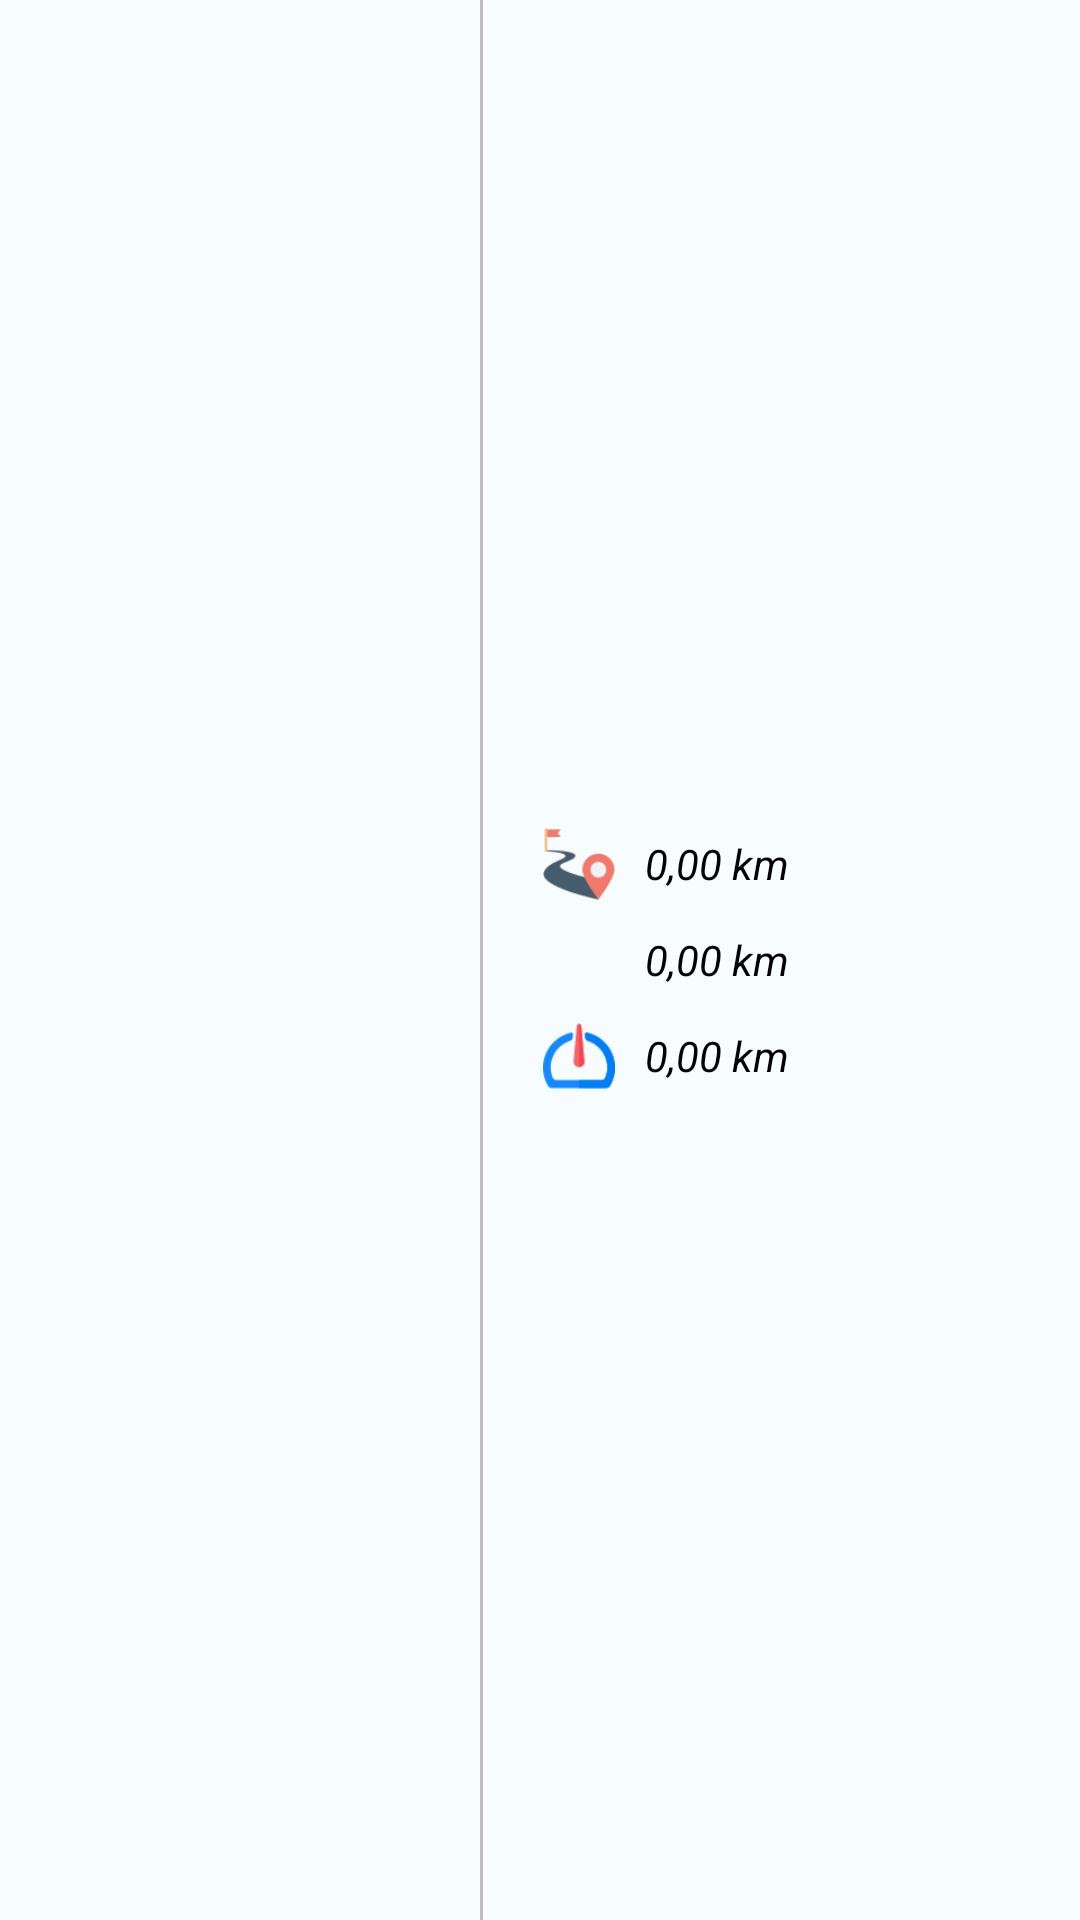

Where icons sit on this 1080px x 1920px app screen, as (x1, y1, x2, y2):
avg: (543, 1023, 615, 1089)
distance: (543, 828, 615, 900)
